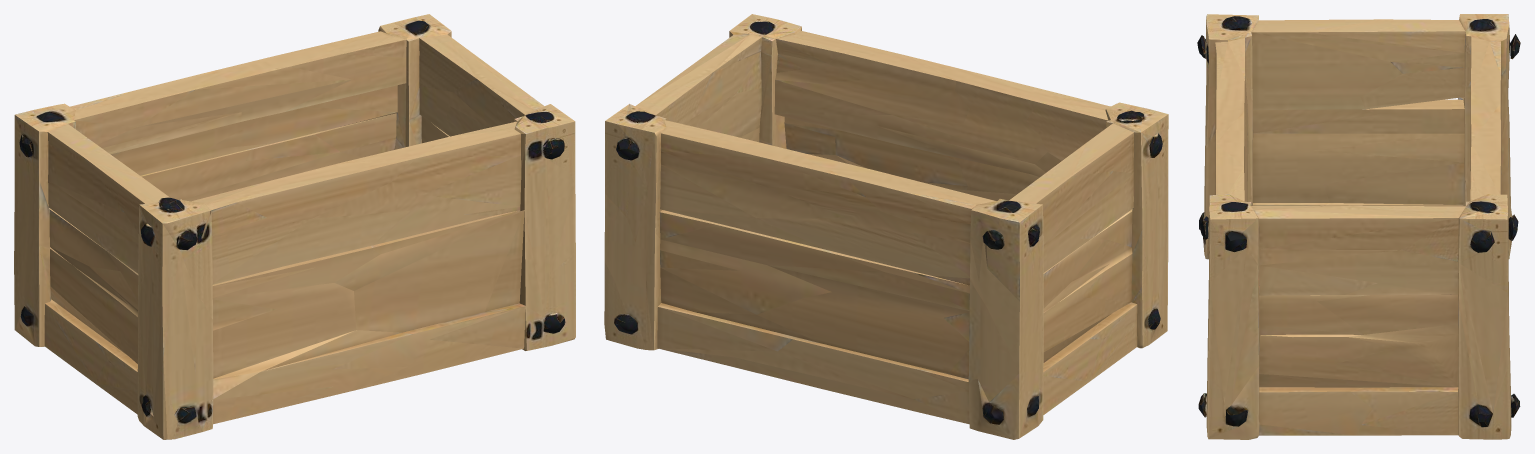
Rendered from crate.glb.
3 renders of one model, left to right at view 1: azimuth 30°, elevation 25°; view 2: azimuth 150°, elevation 25°; view 3: azimuth 270°, elevation 25°, orthographic.
Bounding box in the file's own units: 1.9 × 0.9631 × 1.23.
1 material, 1 textured.
